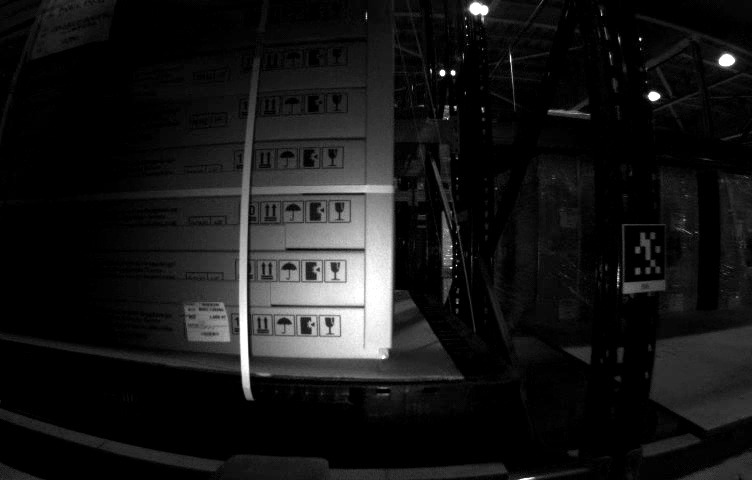True Barcode: (184, 300, 229, 341)
